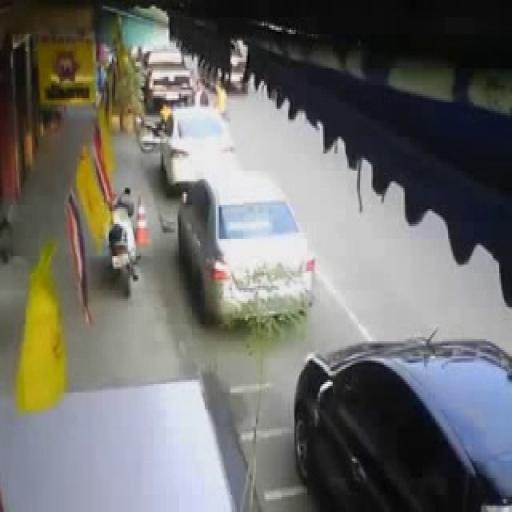Car: (306, 335, 512, 512), (190, 176, 312, 320), (162, 107, 237, 180), (136, 50, 188, 105), (221, 49, 251, 96)
Motor: (106, 192, 135, 286), (136, 106, 167, 152)
Not Accident: (138, 100, 238, 180)
